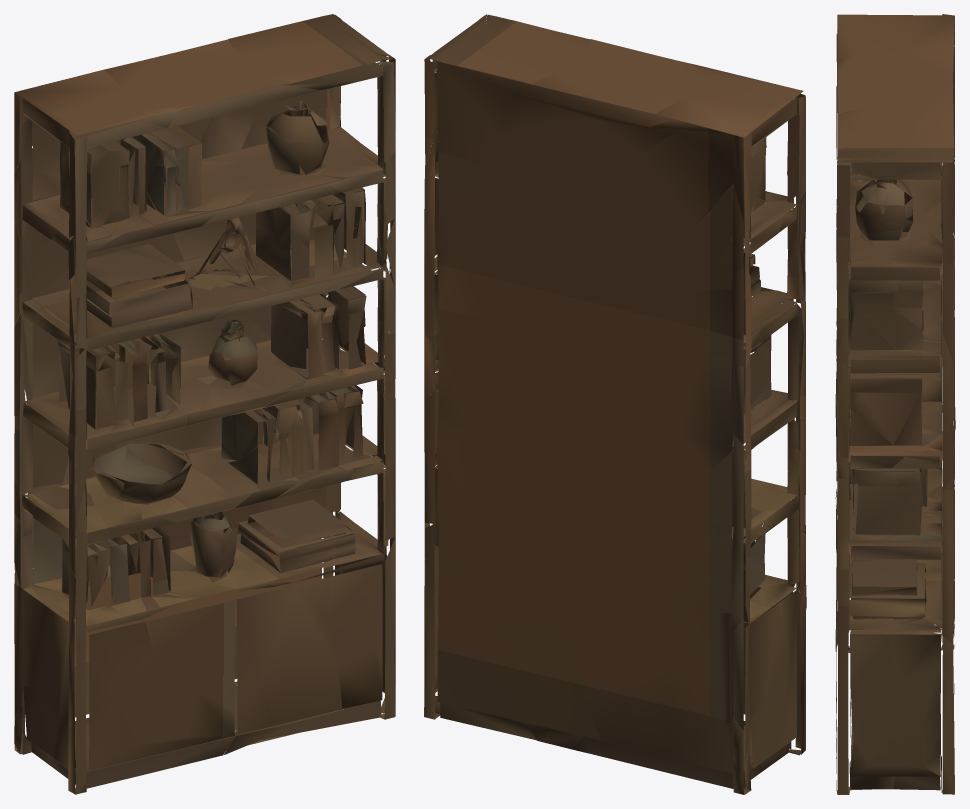
File: bookcase.glb
3 renders of one model, left to right at view 1: azimuth 30°, elevation 25°; view 2: azimuth 150°, elevation 25°; view 3: azimuth 270°, elevation 25°, orthographic. The views are drawn at different scales.
Parts seen in each view (by area): view 1: LO.001; view 2: LO.001; view 3: LO.001.
Boxes of the visible parts, x1=… form: LO.001: x1=14, y1=14, x2=395, y2=794; LO.001: x1=424, y1=14, x2=806, y2=794; LO.001: x1=835, y1=14, x2=955, y2=794.
Bounding box in the file's own units: 1.17 × 2.3 × 0.3977.
1 material, 1 textured.
